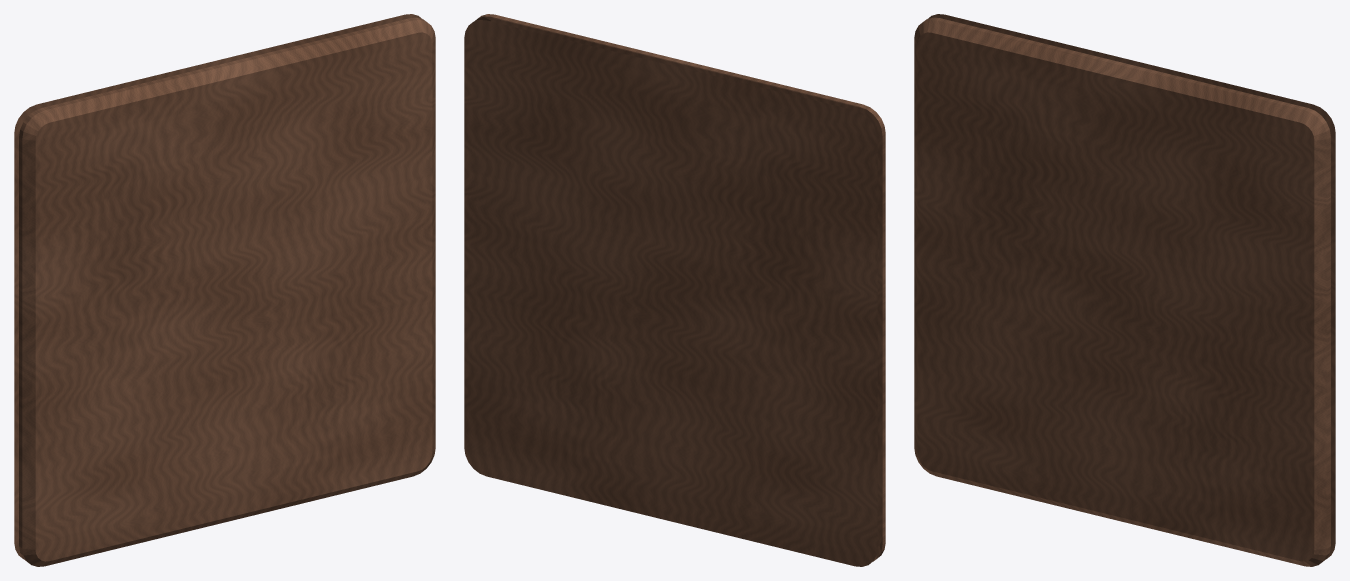
The model's file is Panel_Square_Walnut.obj.
The picture shows the model from 3 angles, left to right: view 1: azimuth 30°, elevation 25°; view 2: azimuth 150°, elevation 25°; view 3: azimuth 330°, elevation 25°; orthographic projection.
Visible parts, largest first — view 1: Panel_Square_Walnut; view 2: Panel_Square_Walnut; view 3: Panel_Square_Walnut.
Boxes of the visible parts, box(x1,y1,x2,y2) form: Panel_Square_Walnut: box(14, 14, 435, 566); Panel_Square_Walnut: box(464, 14, 885, 566); Panel_Square_Walnut: box(914, 14, 1335, 566).
Size of the model in its own units: 3.7 by 3.9 by 0.2.
1 material, 1 textured.
